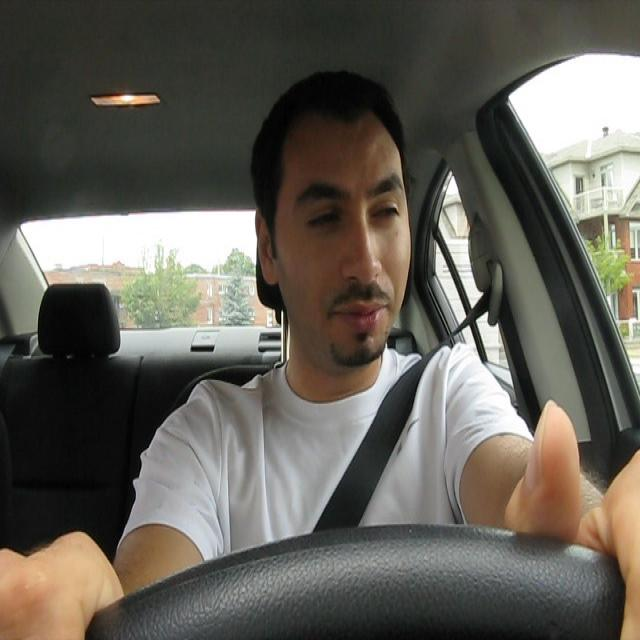Eyeclosed: (304, 201, 340, 239), (371, 196, 399, 233)
